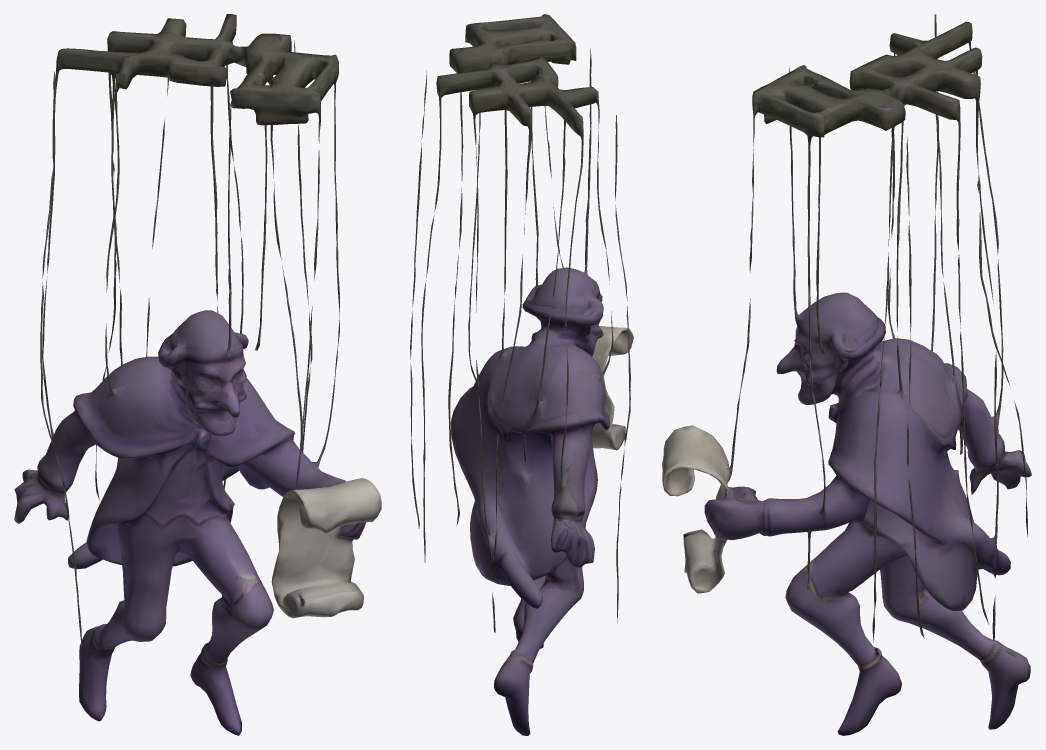
The model's file is Stage_Wraith.glb.
3 renders of one model, left to right at view 1: azimuth 30°, elevation 25°; view 2: azimuth 150°, elevation 25°; view 3: azimuth 270°, elevation 25°, orthographic. The views are drawn at different scales.
Parts seen in each view (by area): view 1: geometry_0; view 2: geometry_0; view 3: geometry_0.
Part boxes in pixels (x1,y1,x2,y2): geometry_0: (14,14,381,735); geometry_0: (410,14,633,735); geometry_0: (662,14,1031,735).
Bounding box in the file's own units: 0.1764 × 0.45 × 0.2205.
1 material, 1 textured.
